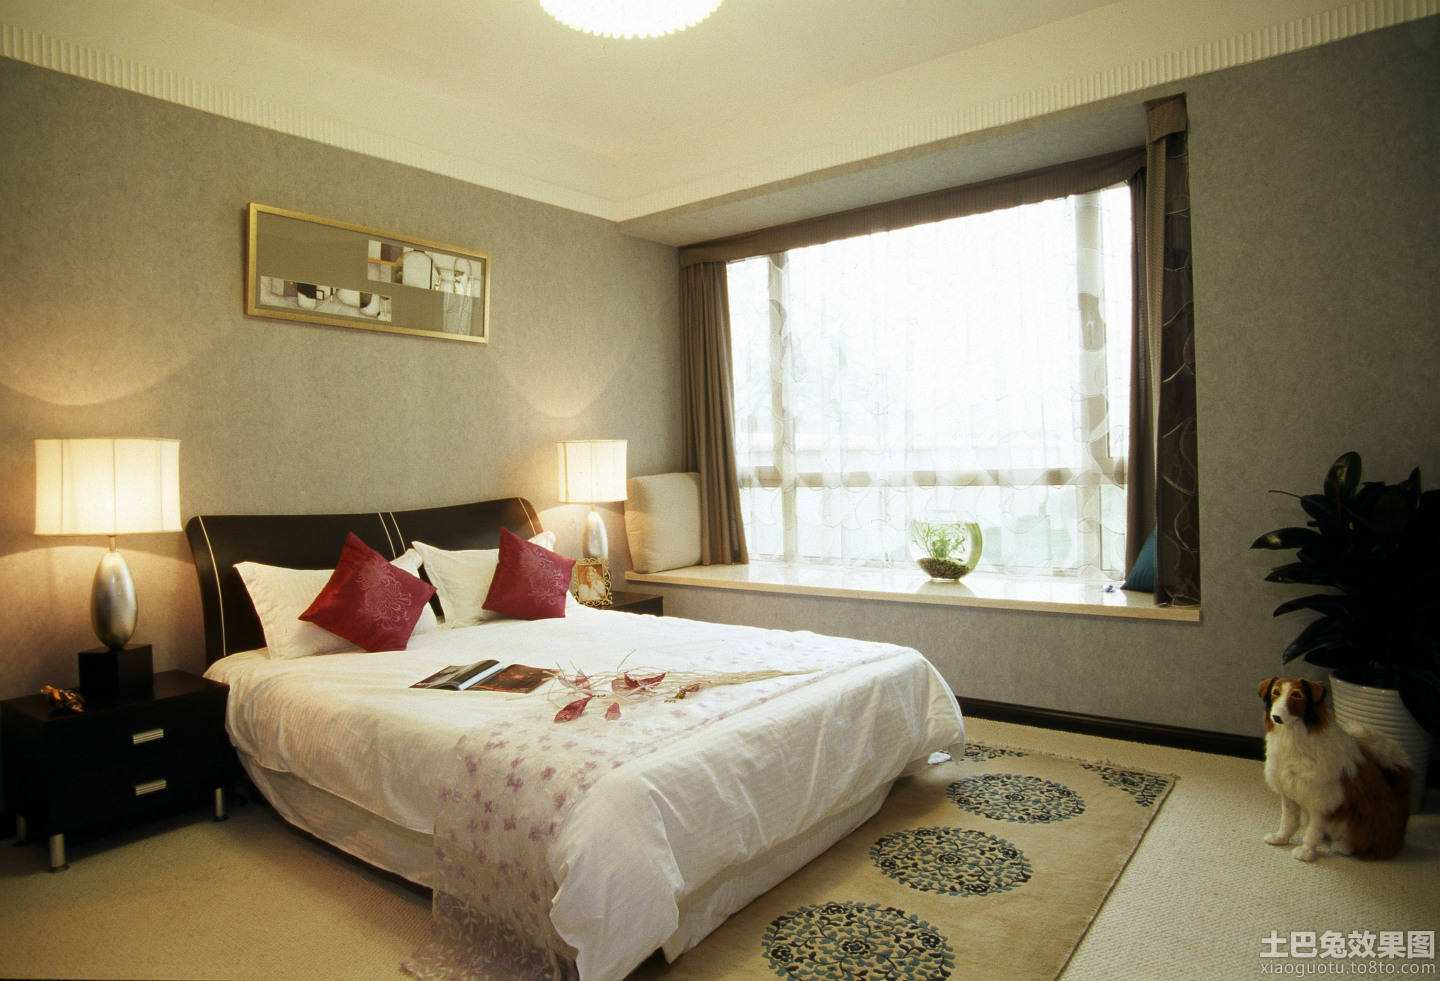床: (197, 599, 949, 950)
枕头: (235, 525, 594, 653)
灯: (30, 432, 182, 687), (546, 434, 630, 597), (518, 4, 741, 45)
